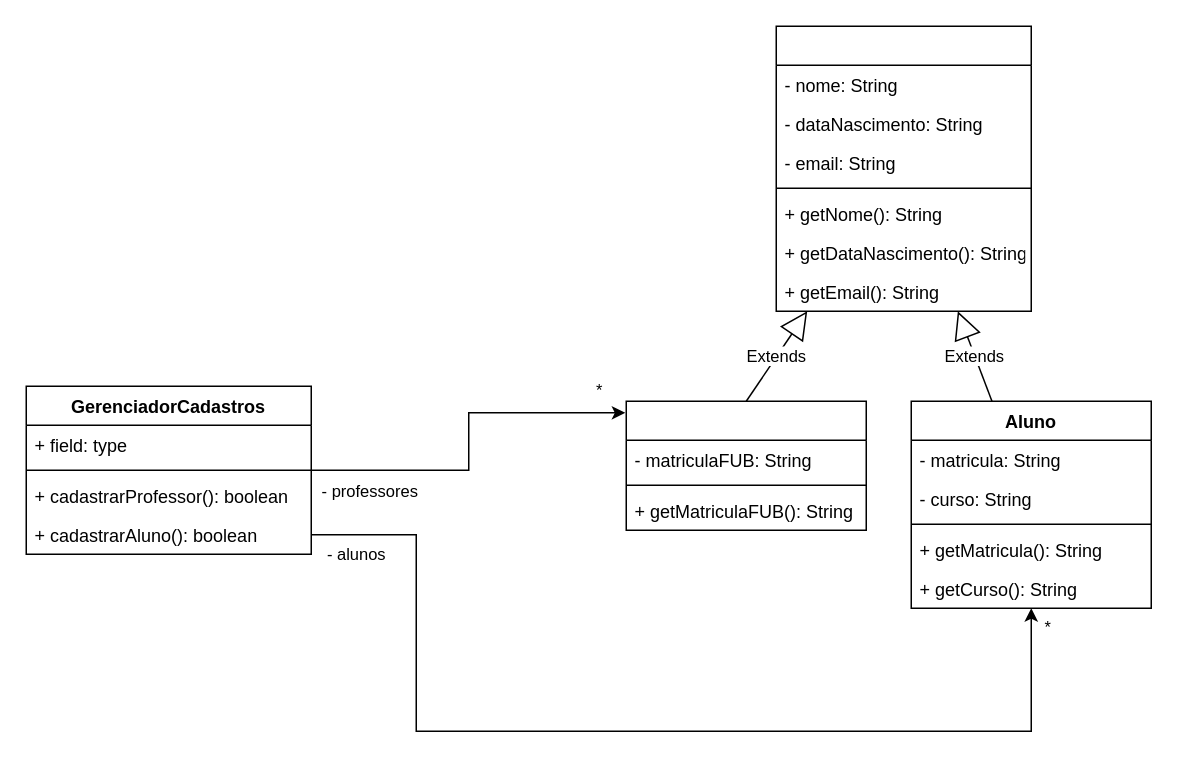
This 1178x770 diagram has some shape labels left out. The box of each missing label's shape, as (x1, y1, x2, y2) in pixels:
PessoaFisica: (775, 25, 1031, 311)
Professor: (625, 400, 866, 530)
